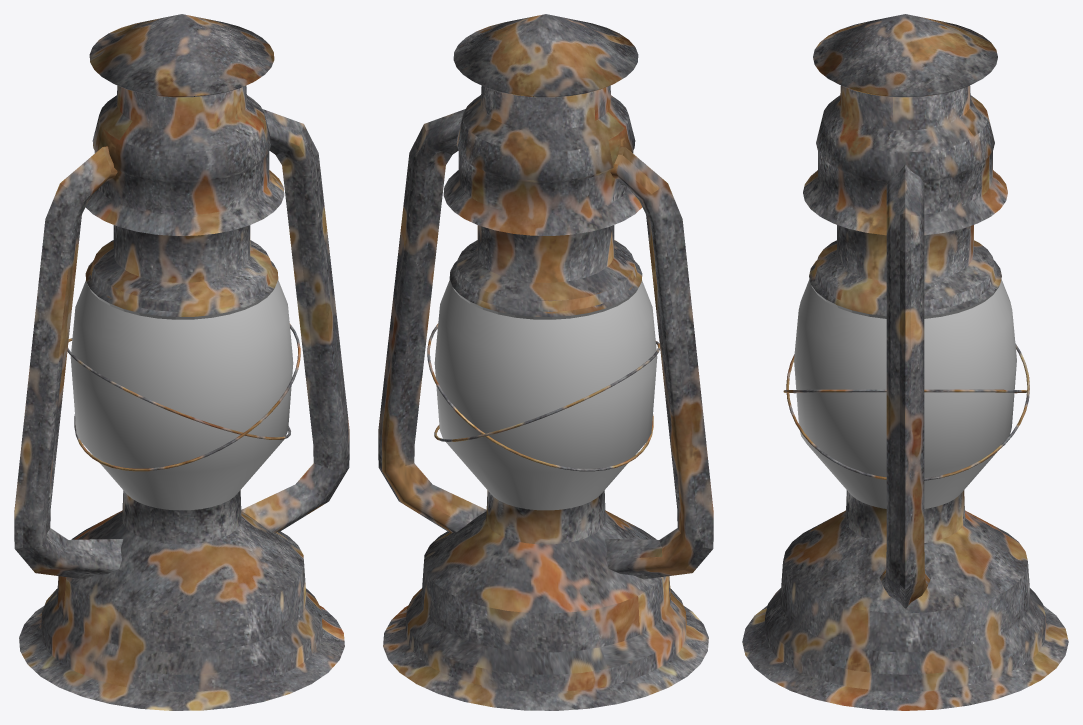
The model's file is Lantern.fbx.
The picture shows the model from 3 angles, left to right: view 1: azimuth 30°, elevation 25°; view 2: azimuth 150°, elevation 25°; view 3: azimuth 270°, elevation 25°; orthographic projection.
Parts seen in each view (by area): view 1: Lantern; view 2: Lantern; view 3: Lantern.
Part boxes in pixels (box(x1,y1,x2,y2)): Lantern: box(14, 14, 349, 710); Lantern: box(378, 14, 713, 710); Lantern: box(742, 14, 1068, 710).
Bounding box in the file's own units: 0.2304 × 0.4125 × 0.1944.
